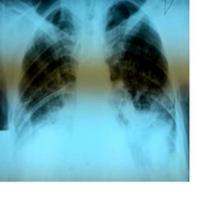tuberculosis: (11, 2, 182, 178)
